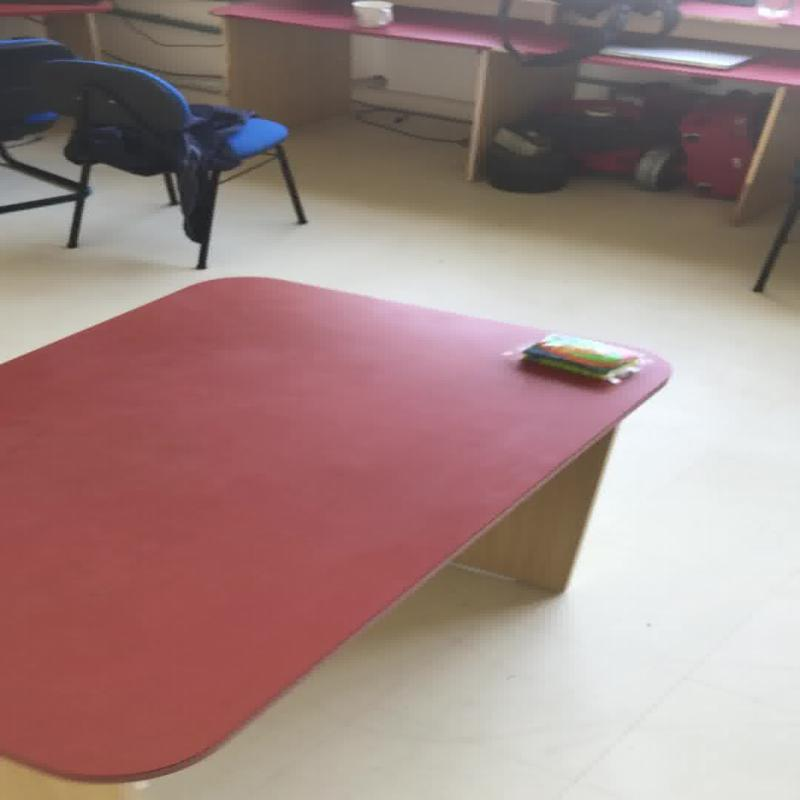sponge: (518, 332, 645, 385)
